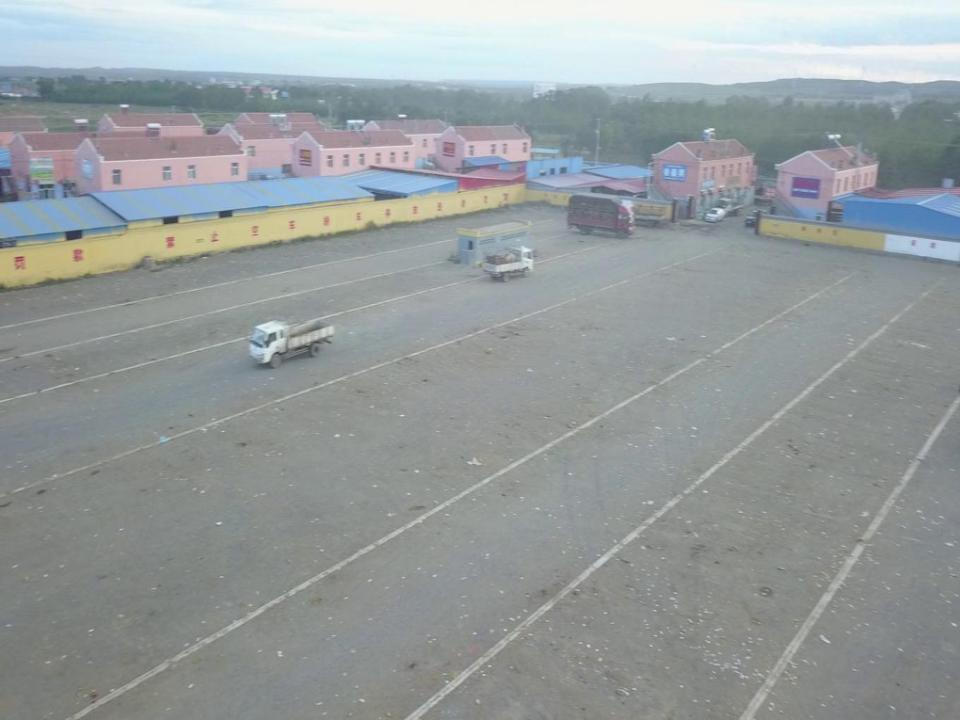car: (703, 205, 723, 223), (744, 206, 760, 228)
truck: (244, 322, 333, 369), (567, 193, 635, 236), (485, 243, 532, 280), (722, 195, 744, 214)
